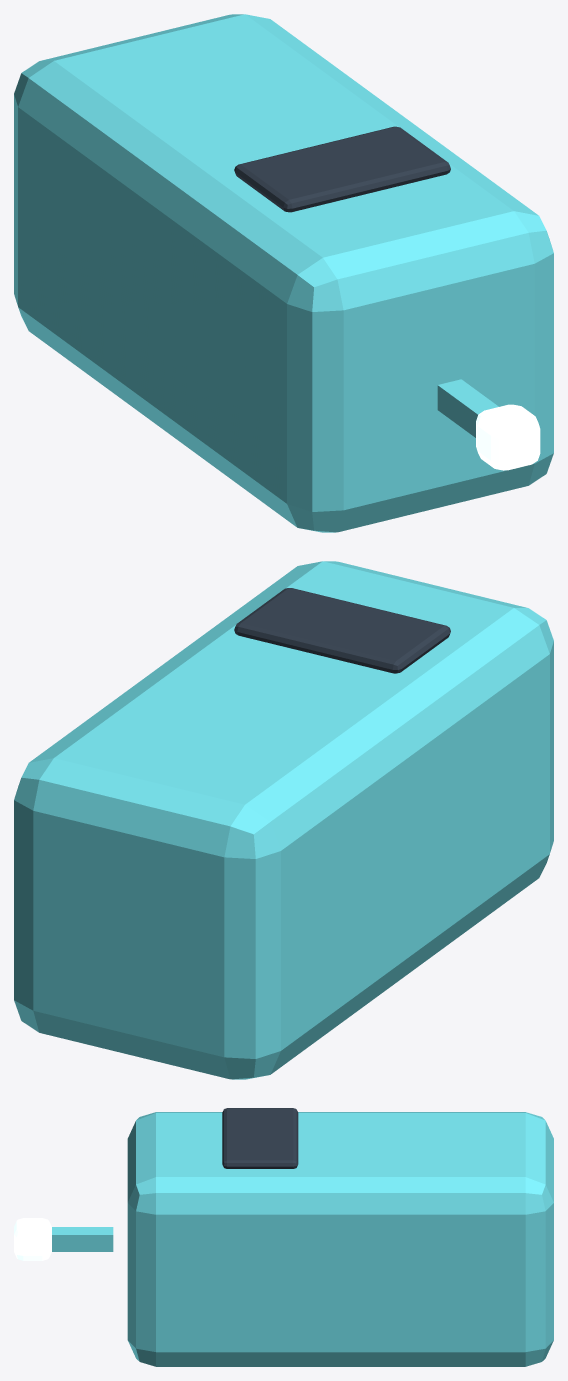
The model's file is bit.glb.
The picture shows the model from 3 angles, top to bottom: view 1: azimuth 30°, elevation 25°; view 2: azimuth 150°, elevation 25°; view 3: azimuth 270°, elevation 25°; orthographic projection. The views are drawn at different scales.
Parts seen in each view (by area): view 1: corpo, visor, ponta, antena; view 2: corpo, visor; view 3: corpo, visor, ponta, antena.
Part boxes in pixels (box(x1,y1,x2,y2)): corpo: box(14, 14, 553, 532); visor: box(234, 126, 450, 212); ponta: box(476, 404, 540, 470); antena: box(437, 379, 498, 437); corpo: box(14, 561, 553, 1079); visor: box(234, 588, 450, 673); corpo: box(127, 1112, 553, 1366); visor: box(222, 1108, 298, 1168); ponta: box(14, 1218, 51, 1260); antena: box(52, 1227, 113, 1251).
Size of the model in its own units: 0.44 by 0.465 by 1.14.
